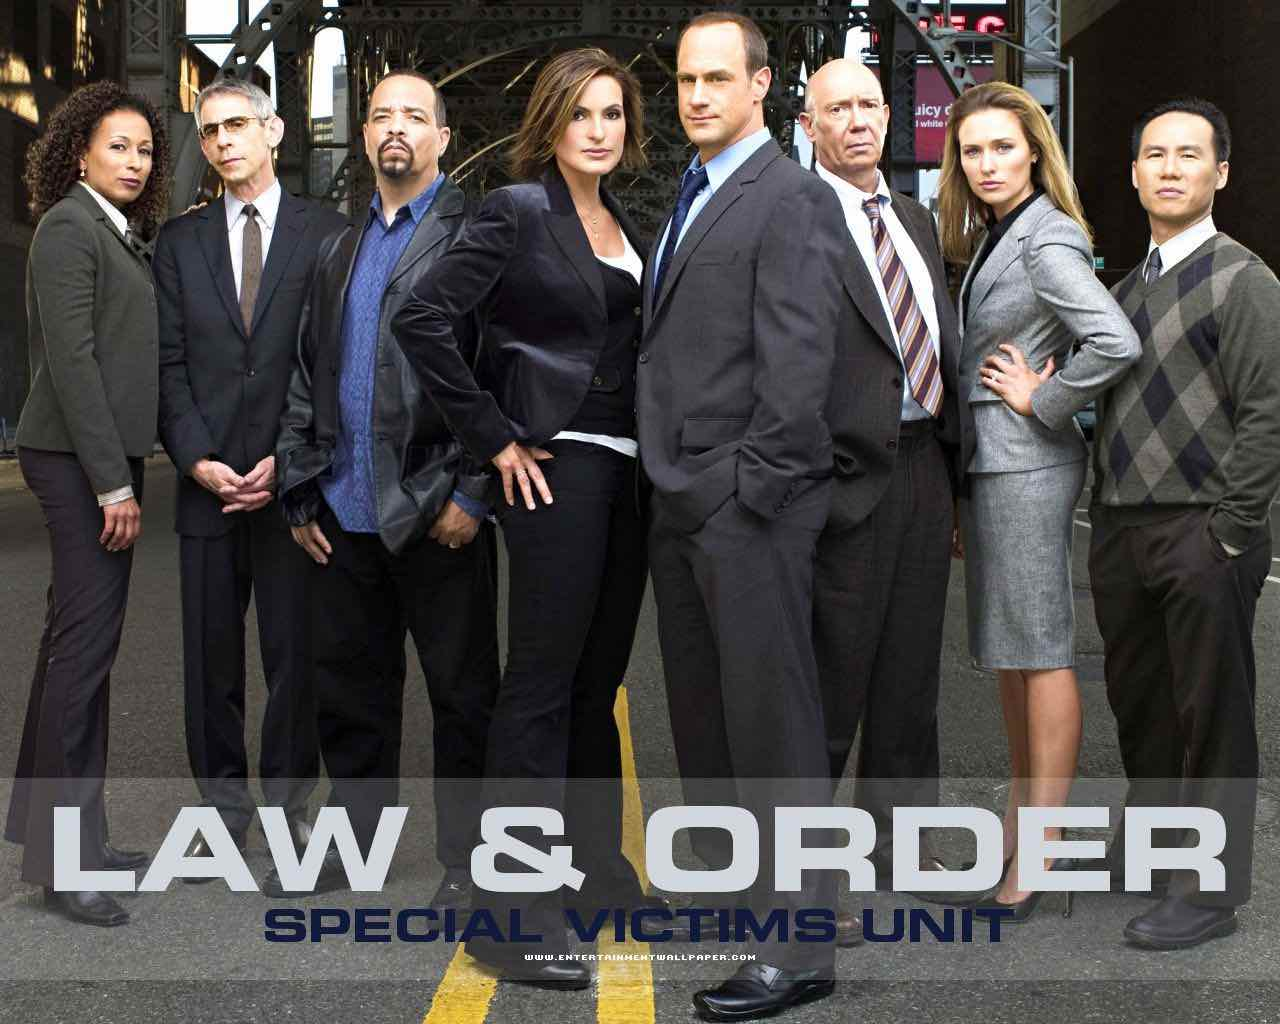Person: (481, 27, 655, 833), (662, 9, 801, 940), (953, 74, 1086, 846), (1120, 83, 1244, 848), (34, 94, 151, 811), (184, 72, 294, 798), (336, 68, 446, 764), (823, 44, 910, 799)
